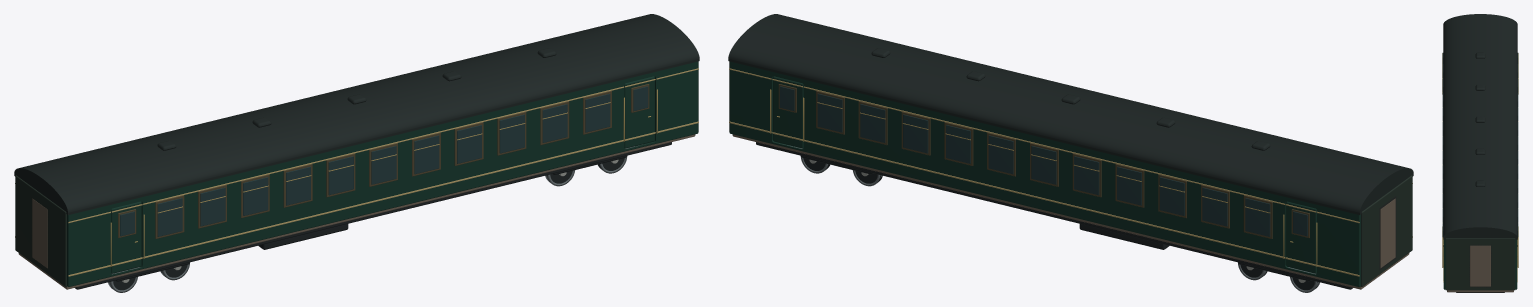
The model's file is steam-middle.glb.
The picture shows the model from 3 angles, left to right: view 1: azimuth 30°, elevation 25°; view 2: azimuth 150°, elevation 25°; view 3: azimuth 270°, elevation 25°; orthographic projection. The views are drawn at different scales.
Visible parts, largest first — view 1: body, door_right_rear, door_right_front, bogieBack, bogieFront; view 2: body, door_left_rear, door_left_front, bogieBack, bogieFront; view 3: body.
Part boxes in pixels (x1,y1,x2,y2): body: [14, 14, 699, 289]; door_right_rear: [111, 201, 142, 273]; door_right_front: [624, 76, 655, 148]; bogieBack: [108, 262, 189, 292]; bogieFront: [545, 156, 627, 186]; body: [728, 14, 1413, 289]; door_left_rear: [1285, 201, 1316, 273]; door_left_front: [772, 76, 803, 148]; bogieBack: [1238, 262, 1319, 292]; bogieFront: [800, 156, 882, 186]; body: [1442, 14, 1518, 292].
Size of the model in its own units: 20.02 by 3.83 by 3.01.
